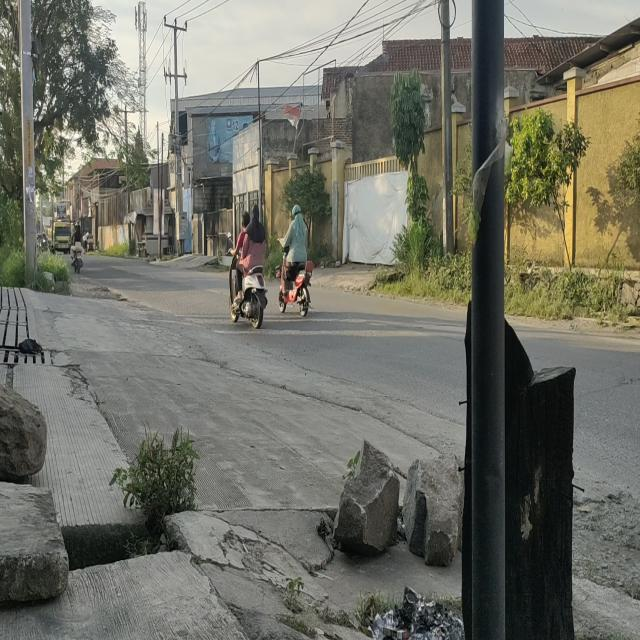no-helmet: (240, 210, 250, 230), (252, 205, 260, 220)
